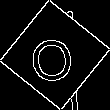O_N: (31, 27, 79, 83)
